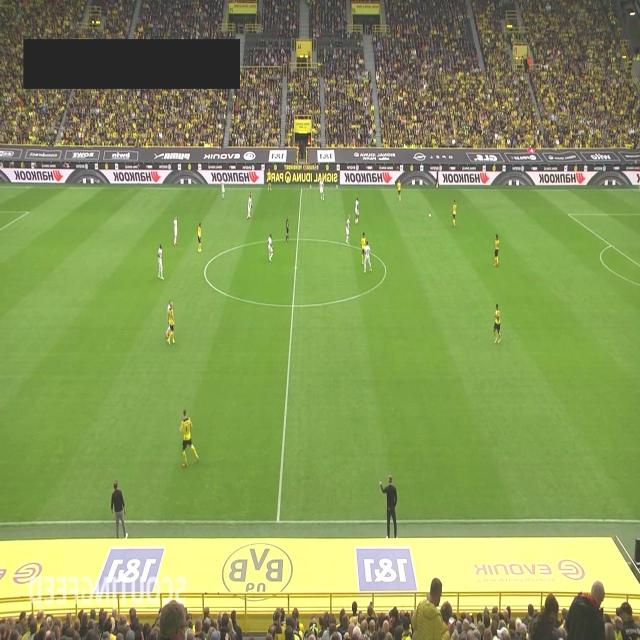ball: (428, 212, 431, 219)
player: (180, 409, 199, 468), (167, 300, 176, 345), (493, 304, 501, 344), (363, 241, 372, 273), (157, 243, 164, 280), (451, 198, 457, 228), (267, 233, 273, 262), (494, 234, 499, 268), (246, 192, 252, 220), (173, 214, 178, 247), (361, 232, 366, 264), (266, 167, 272, 193), (197, 222, 202, 252), (318, 177, 324, 201), (345, 216, 350, 244), (355, 197, 359, 225), (396, 180, 401, 201), (221, 182, 225, 199)
referee: (434, 168, 440, 190), (285, 215, 289, 242)
